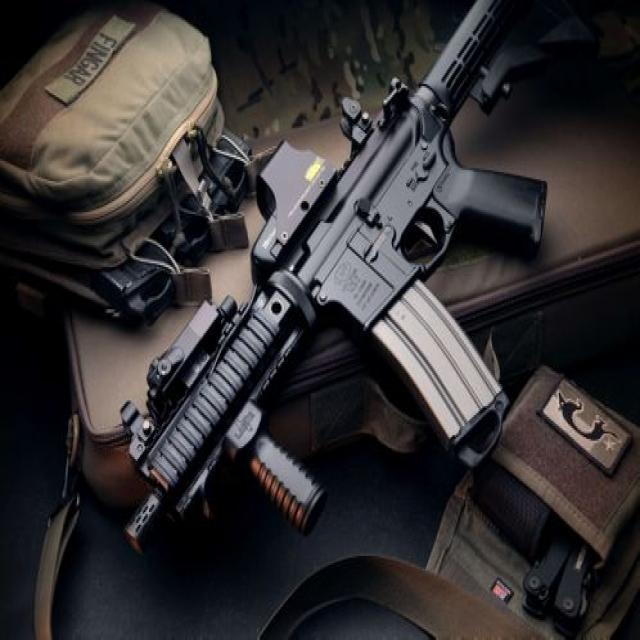firearm: (119, 0, 549, 554)
